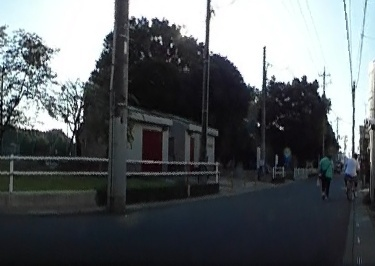person: (318, 152, 333, 198), (345, 151, 359, 196)
